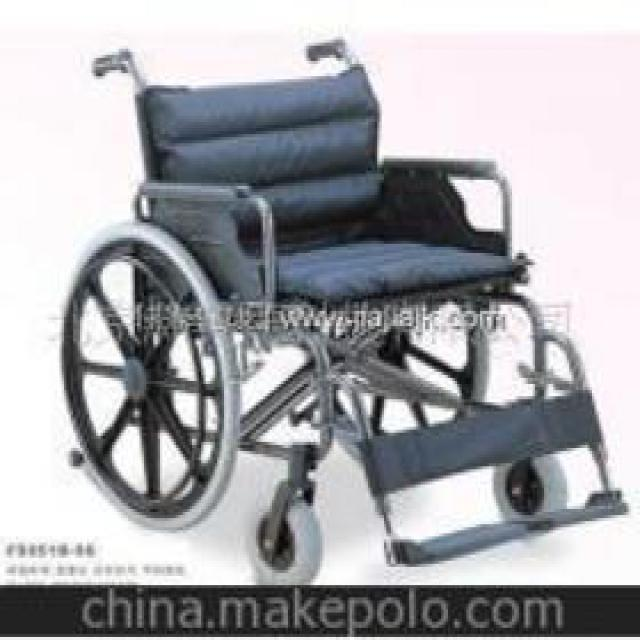wheelchair: (55, 27, 638, 570)
